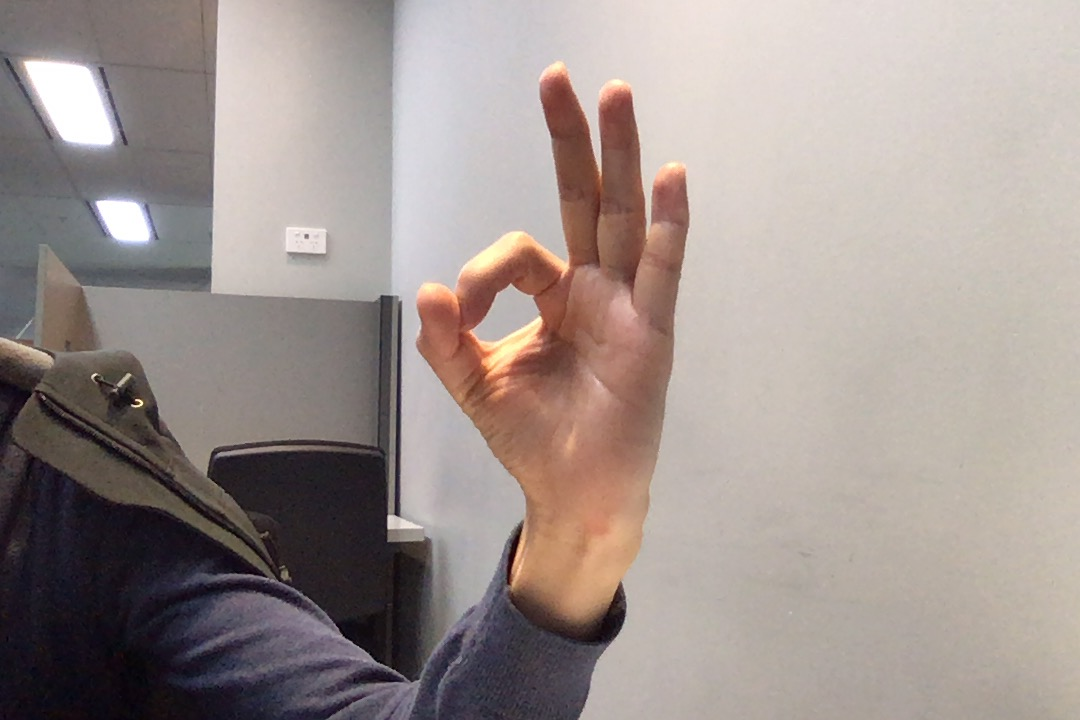oksign: (405, 52, 703, 525)
